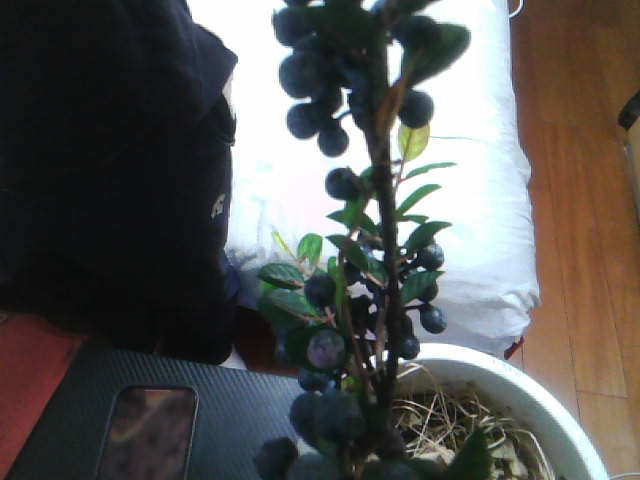blueberry: (278, 55, 318, 94), (272, 7, 310, 45), (401, 90, 437, 127), (315, 134, 351, 156)
